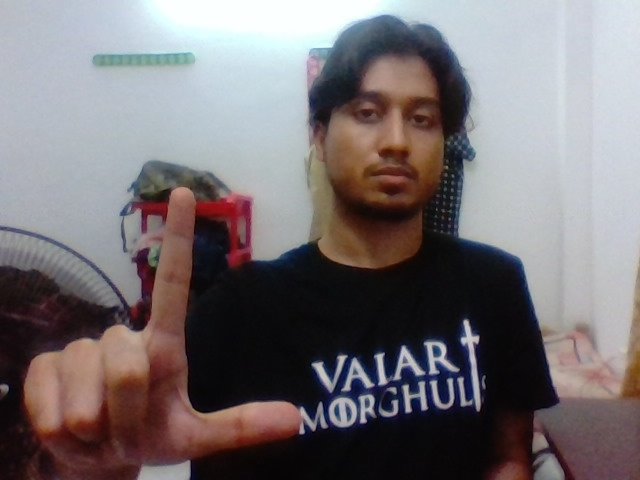L: (93, 179, 303, 467)
